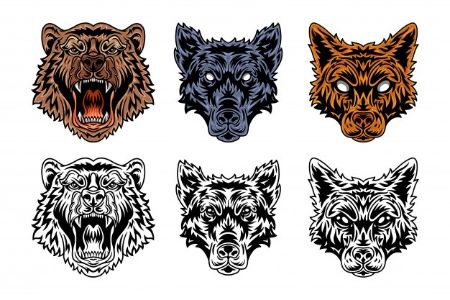bear: (30, 152, 159, 279), (29, 17, 158, 143)
fox: (304, 13, 420, 145), (305, 153, 425, 279)
wolf: (167, 17, 285, 143), (173, 154, 287, 278)
